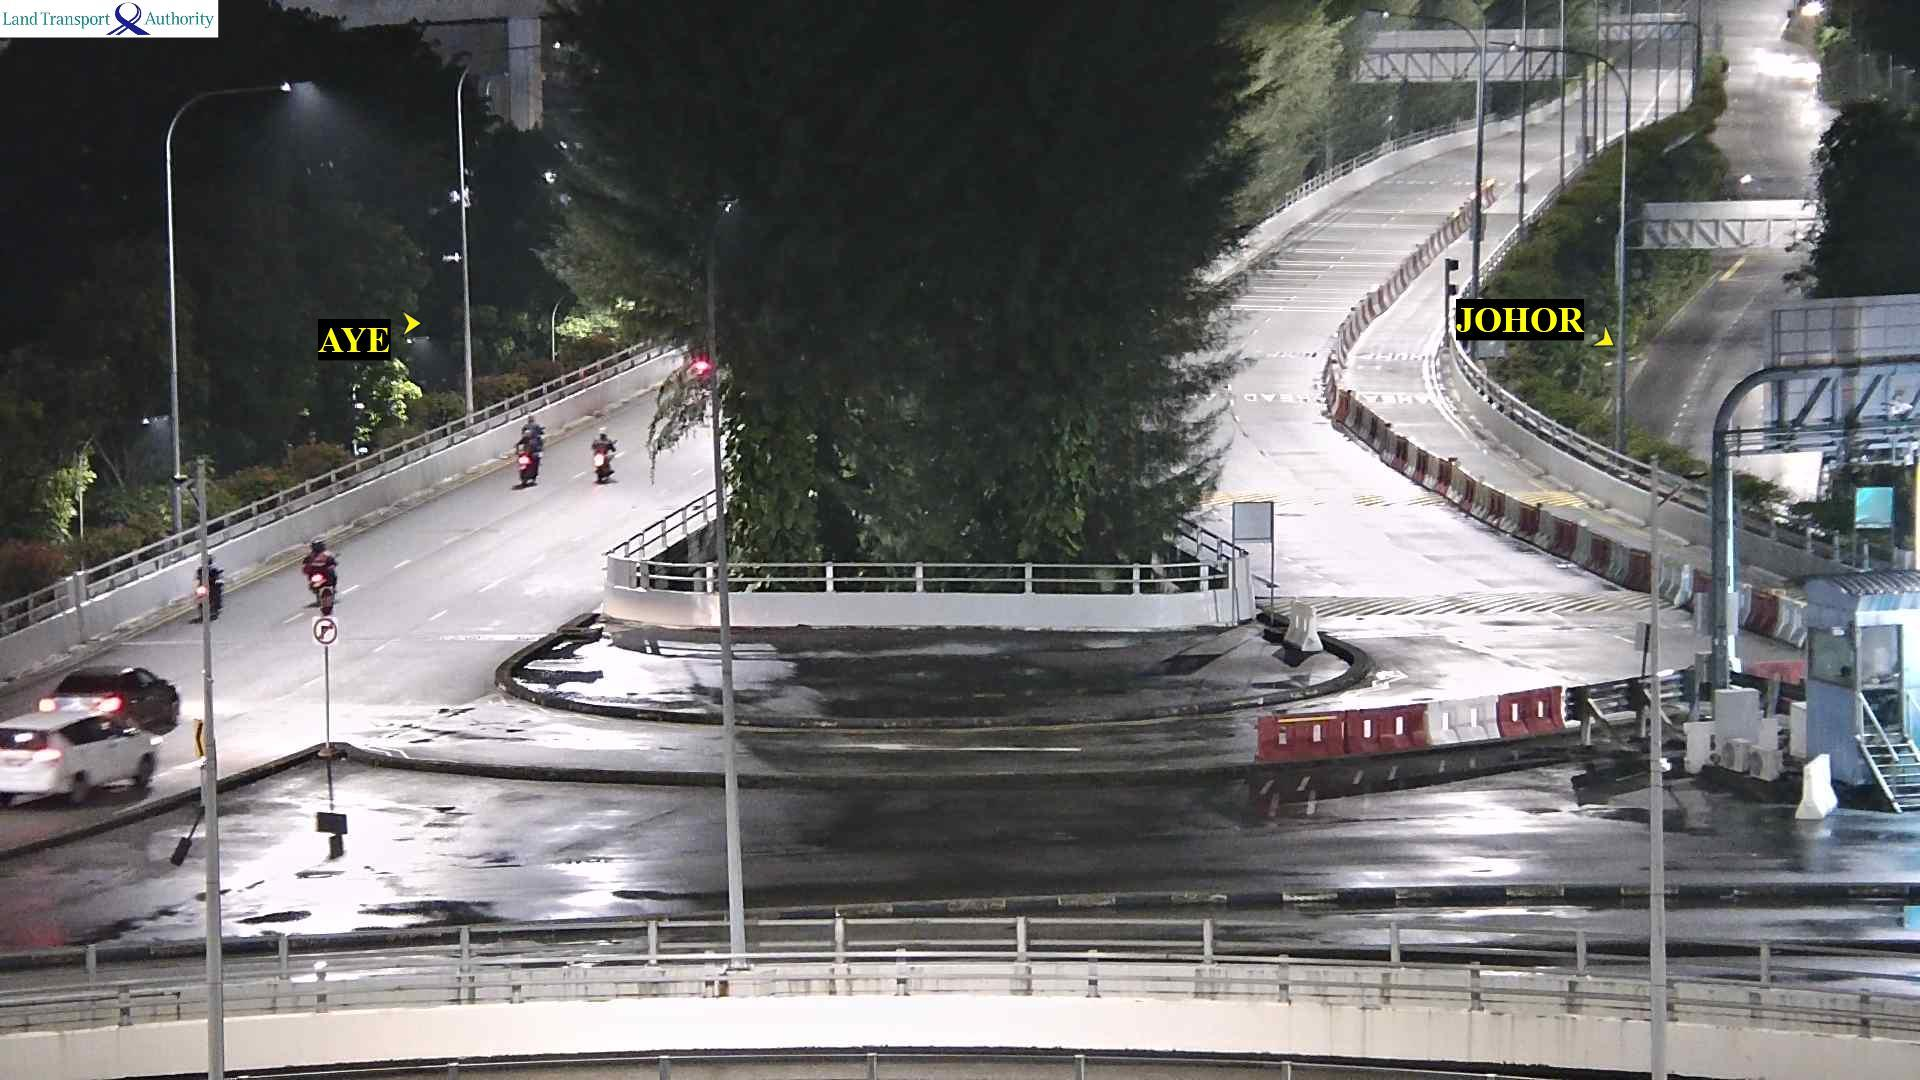vehicle-secondlink-singapore: (0, 708, 148, 806), (42, 662, 182, 720), (191, 559, 231, 620), (301, 535, 336, 595), (513, 429, 546, 488), (593, 435, 622, 484)
